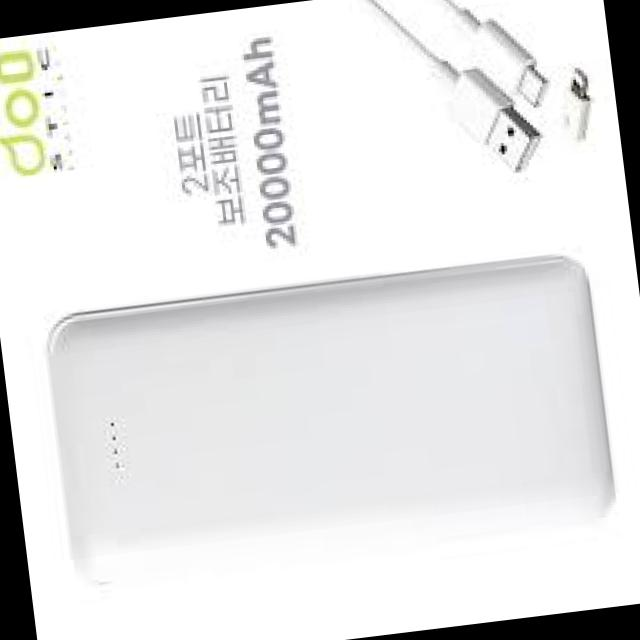portable-charger: (36, 242, 623, 590)
